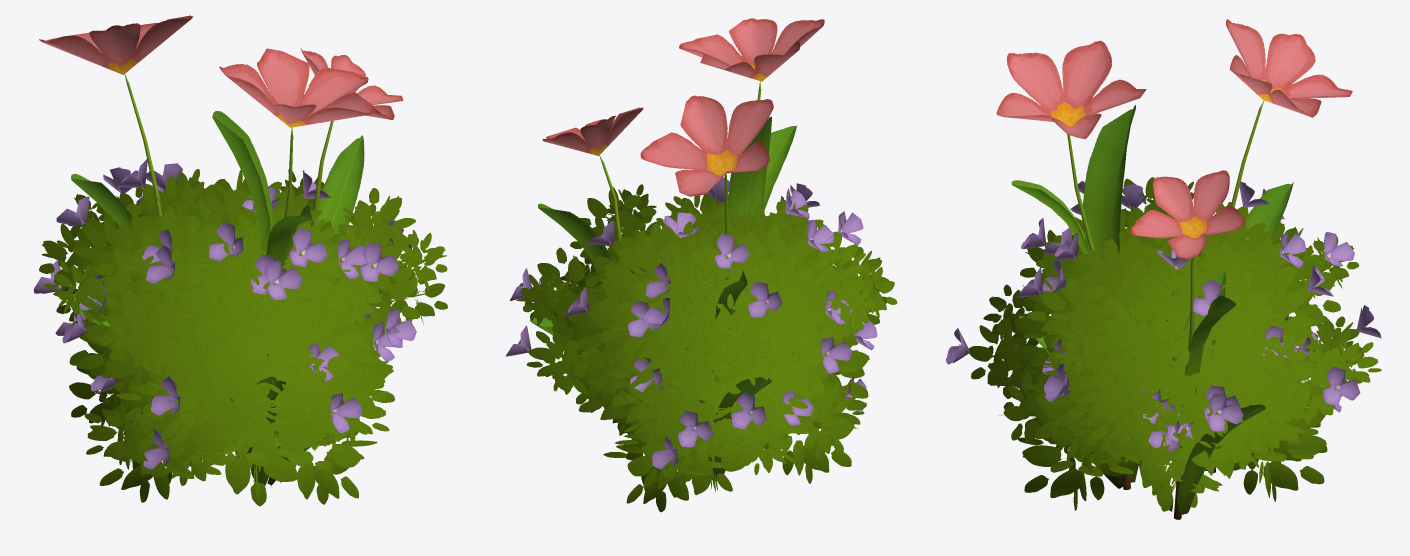
The model's file is floral-accents.glb.
3 renders of one model, left to right at view 1: azimuth 30°, elevation 25°; view 2: azimuth 150°, elevation 25°; view 3: azimuth 270°, elevation 25°, orthographic. The views are drawn at different scales.
Parts seen in each view (by area): view 1: Bush_Common_Flowers, Flower_3_Group; view 2: Bush_Common_Flowers, Flower_3_Group; view 3: Bush_Common_Flowers, Flower_3_Group.
Part boxes in pixels (x1,y1,x2,y2): Bush_Common_Flowers: (33, 159, 447, 506); Flower_3_Group: (39, 15, 403, 486); Bush_Common_Flowers: (505, 176, 897, 512); Flower_3_Group: (531, 18, 824, 480); Bush_Common_Flowers: (946, 177, 1381, 511); Flower_3_Group: (996, 19, 1352, 519).
Size of the model in its own units: 1.91 by 2.25 by 1.97.
Materials: 4 (4 with a texture image).
